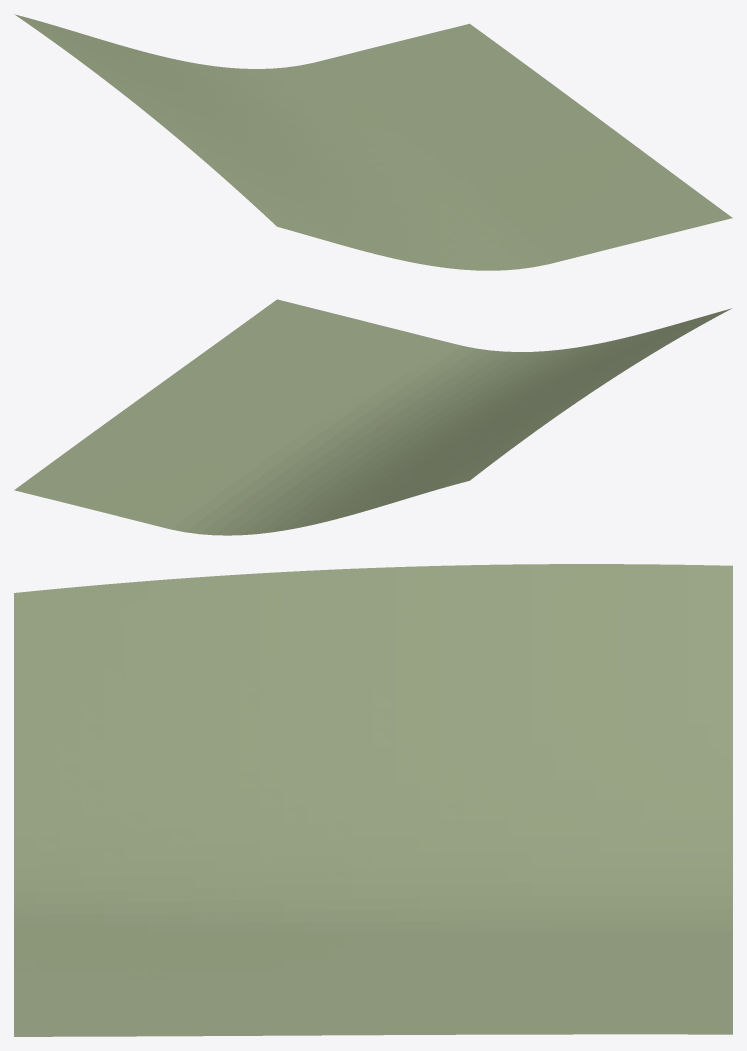
File: desert-22-18.glb
3 views of the same model, one above another, from view 1: azimuth 30°, elevation 25°; view 2: azimuth 150°, elevation 25°; view 3: azimuth 270°, elevation 25° (orthographic). The views are drawn at different scales.
Visible parts, largest first — view 1: desert-22-18; view 2: desert-22-18; view 3: desert-22-18.
Boxes of the visible parts, left/top/right/bottom form: desert-22-18: left=14, top=14, right=732, bottom=270; desert-22-18: left=14, top=299, right=731, bottom=535; desert-22-18: left=14, top=564, right=732, bottom=1036.
Bounding box in the file's own units: 512 × 134 × 512.
